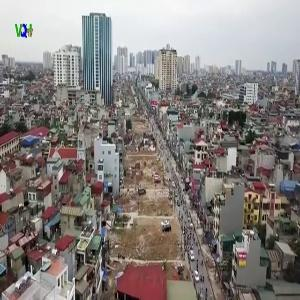drone: (8, 124, 62, 178)
